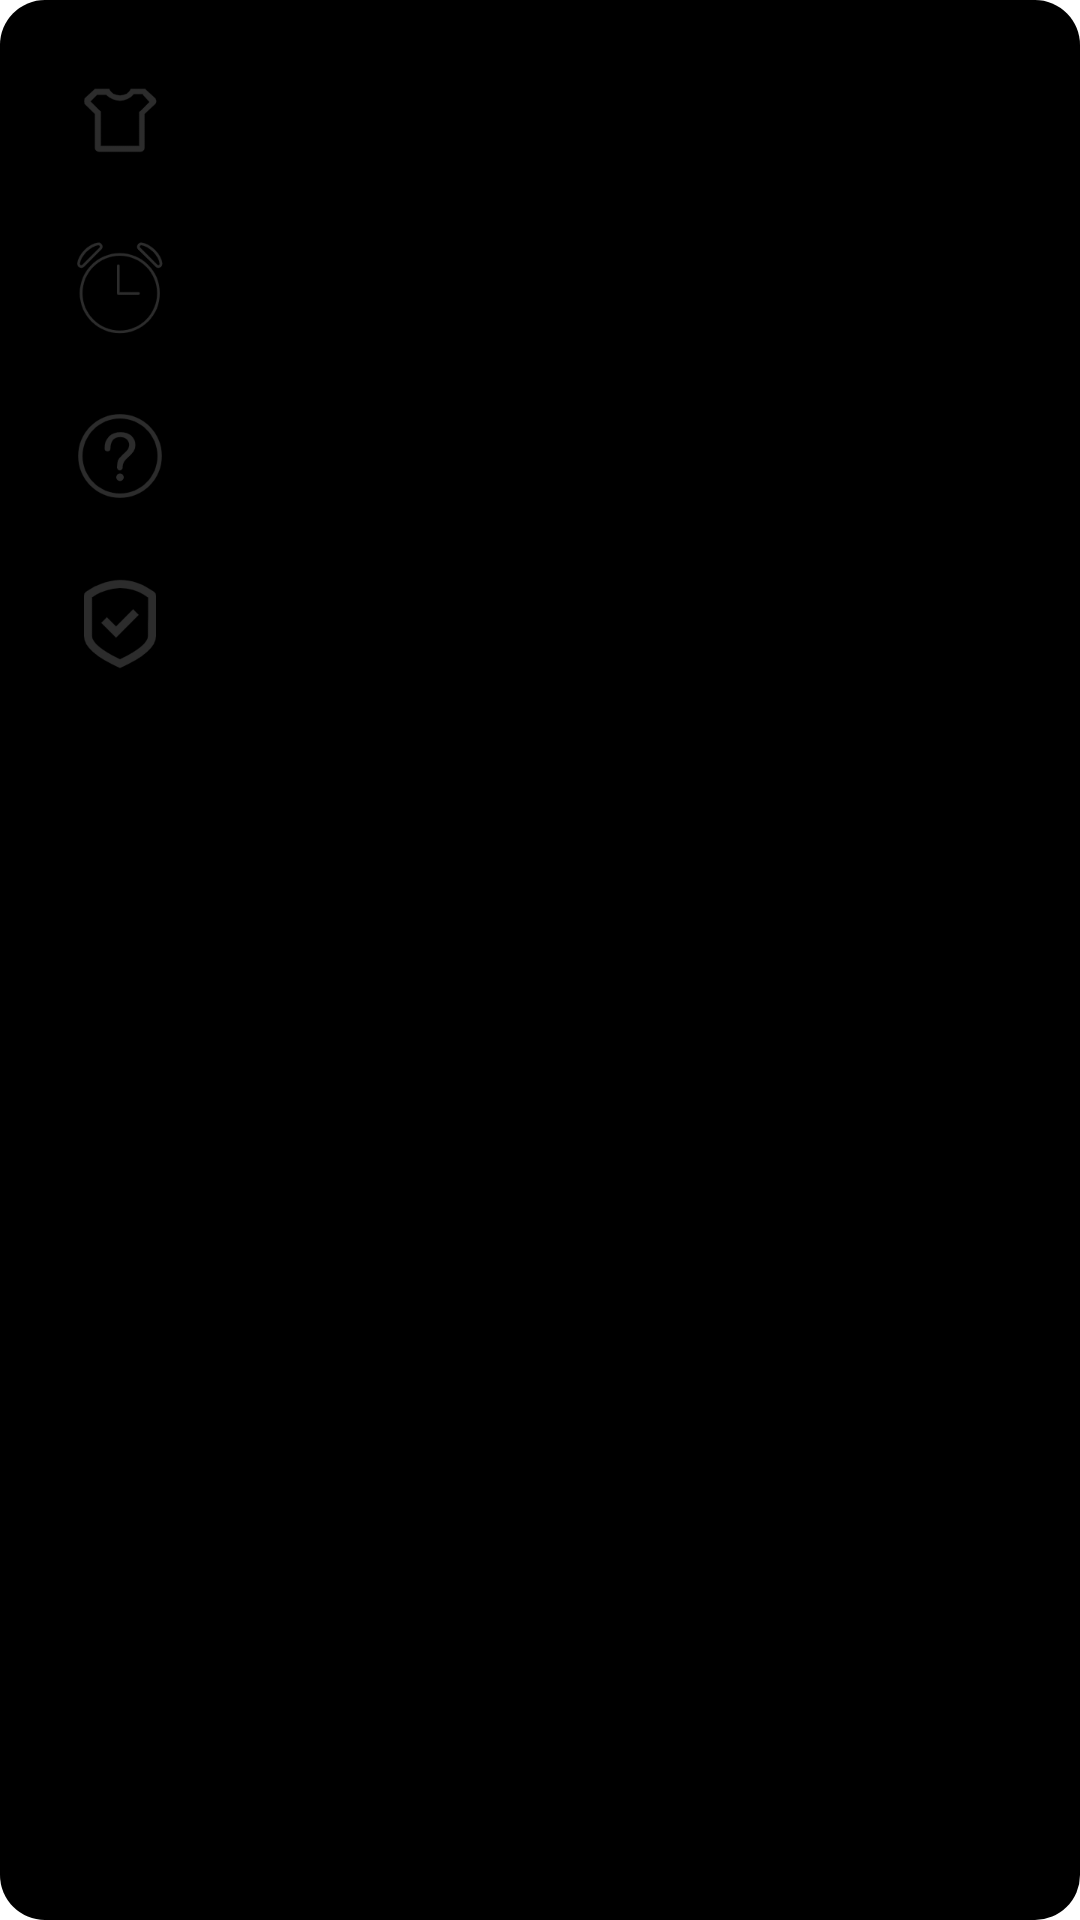

Icon bounding boxes for this 1080px×1920px phone screenshot, format (left=x1, top=y1, right=x2, bottom=y2):
clock: (left=77, top=243, right=162, bottom=333)
clothing: (left=84, top=89, right=156, bottom=152)
help: (left=78, top=414, right=162, bottom=498)
shield: (left=84, top=580, right=156, bottom=668)
